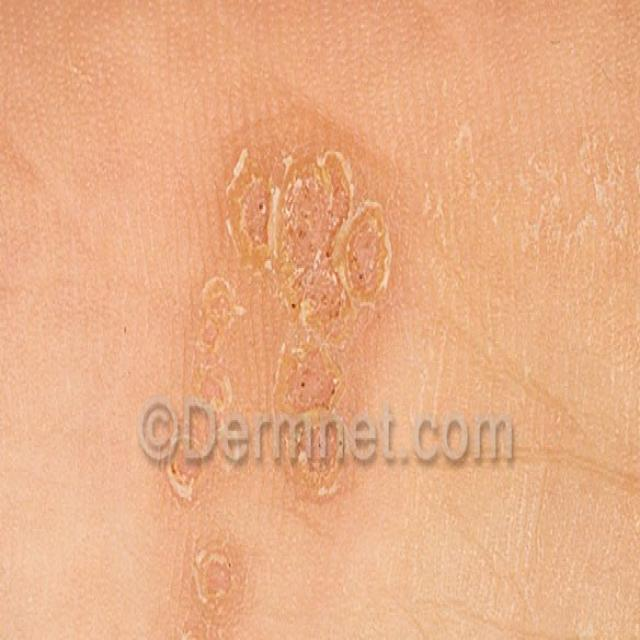Warts: (170, 116, 396, 640)
